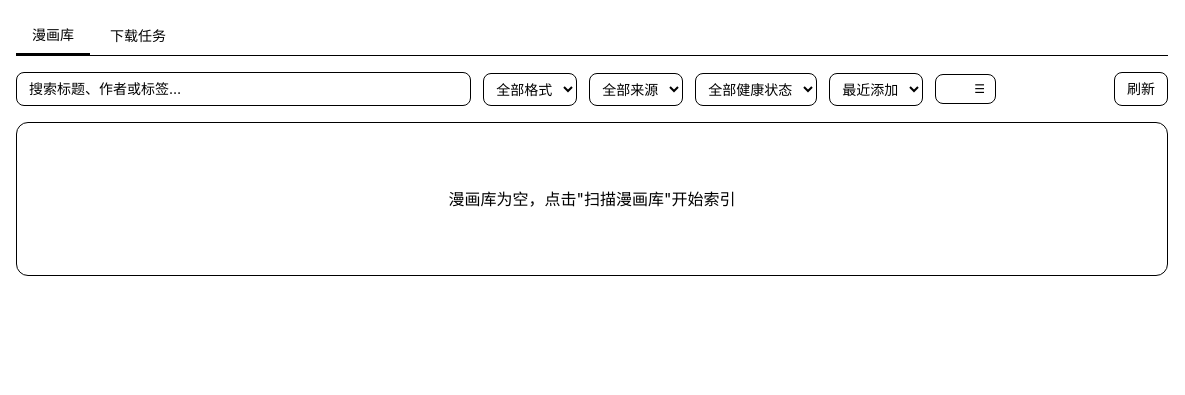
Scenario: DownloadPage › keeps album chapters collapsed until the user expands them
Click the button with test id "subtab-tasks": (138, 36) [94,18,182,54]
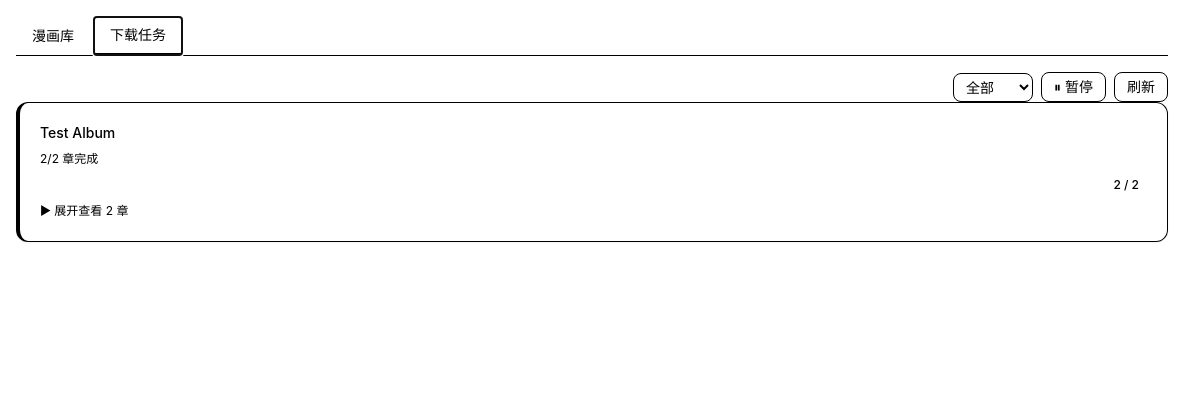
Expected: the text "Chapter One" is not shown
Click the button "▶ 展开查看 2 章": (84, 211) [40,203,128,219]
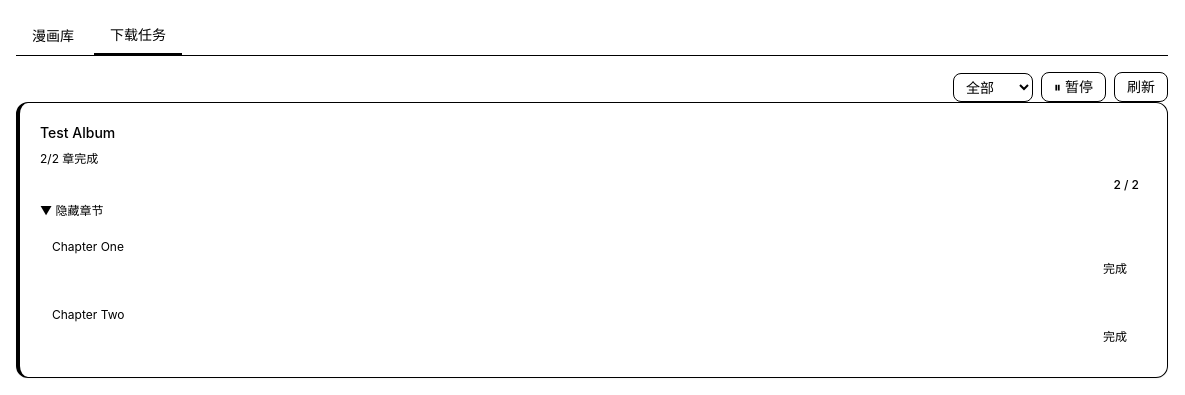
Result: the text "Chapter One" is shown at [52,239,124,254]
Result: the text "Chapter Two" is shown at [52,307,124,322]
